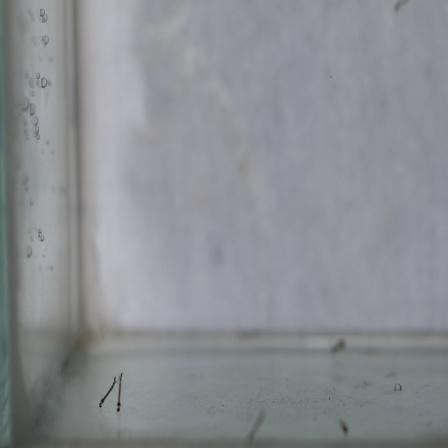Jentik-Nyamuk: (95, 369, 128, 416)
